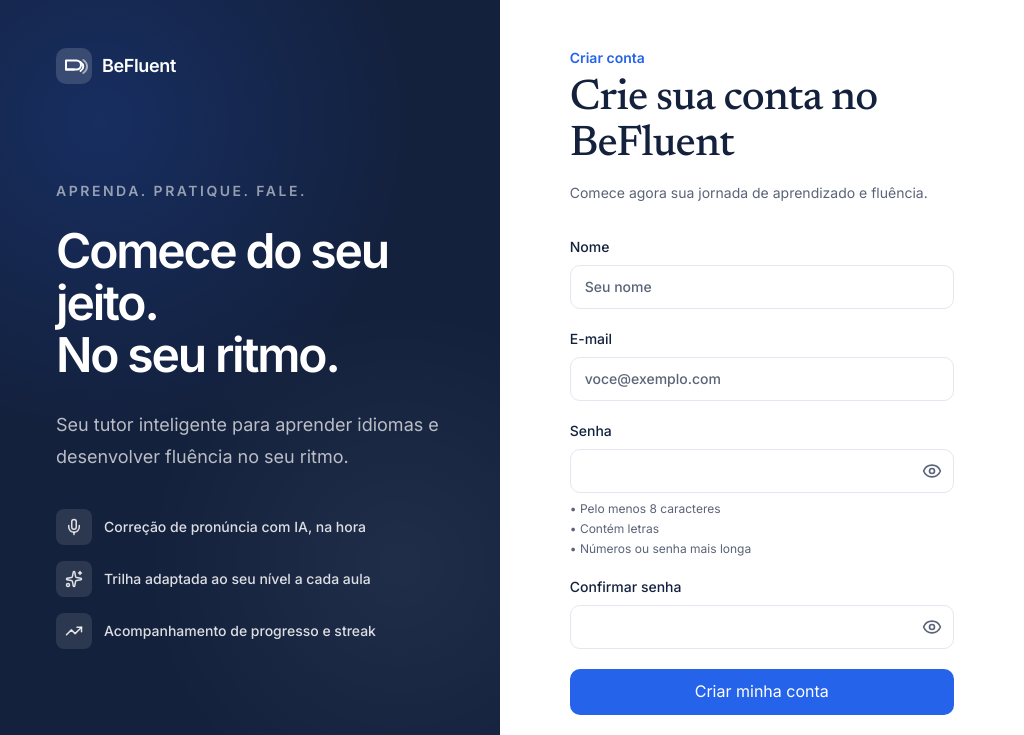
Test: RegisterPage › mostra erro do backend
Type "Maria" into the field labelled "Nome" at (762, 287), box [570,265,954,309]
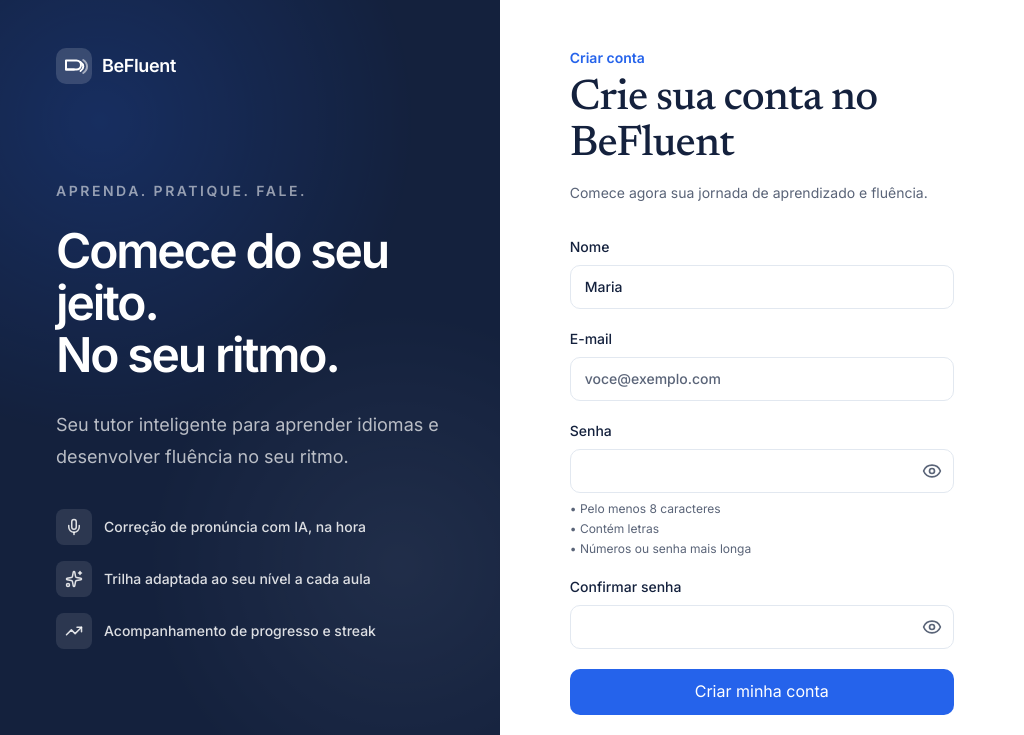
Type "maria@exemplo.com" into the field labelled "E-mail" at (762, 379), box [570,357,954,401]
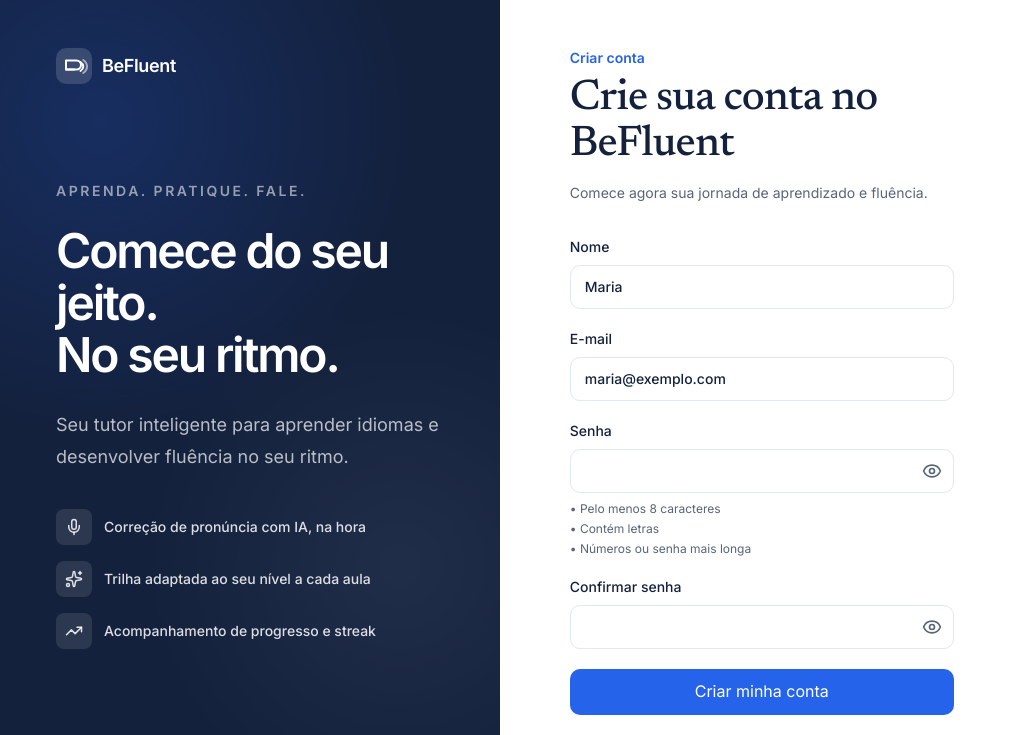
Type "senha-forte-1" into the password field labelled "Senha" at (762, 471), box [570,449,954,493]
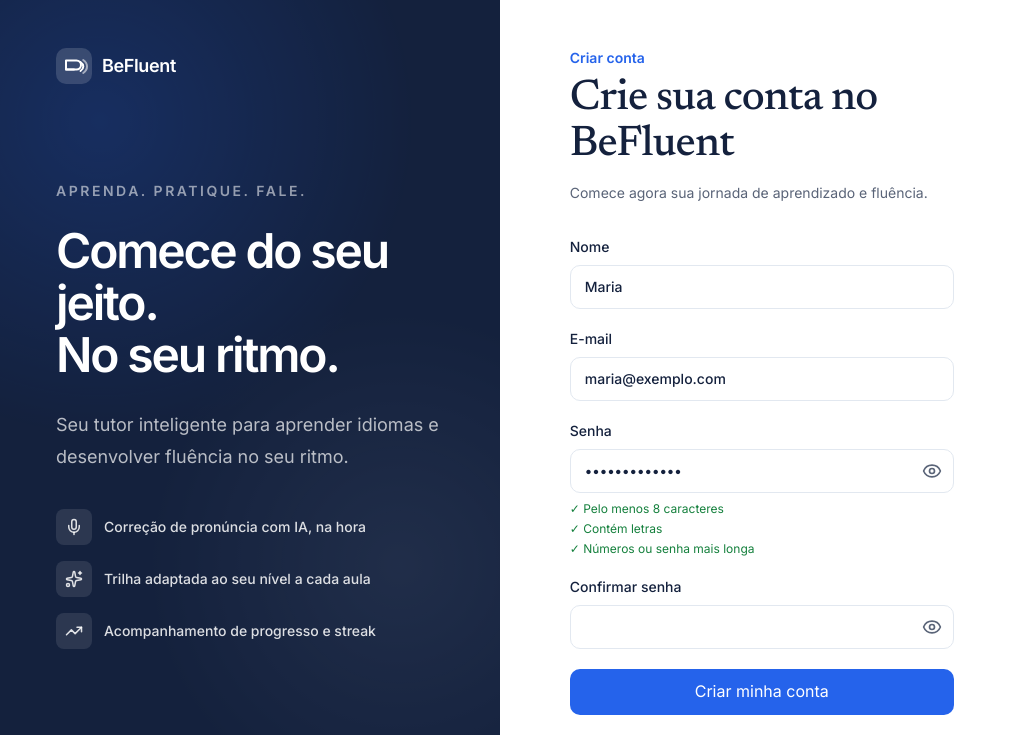
Type "senha-forte-1" into the password field labelled "Confirmar senha" at (762, 627), box [570,605,954,649]
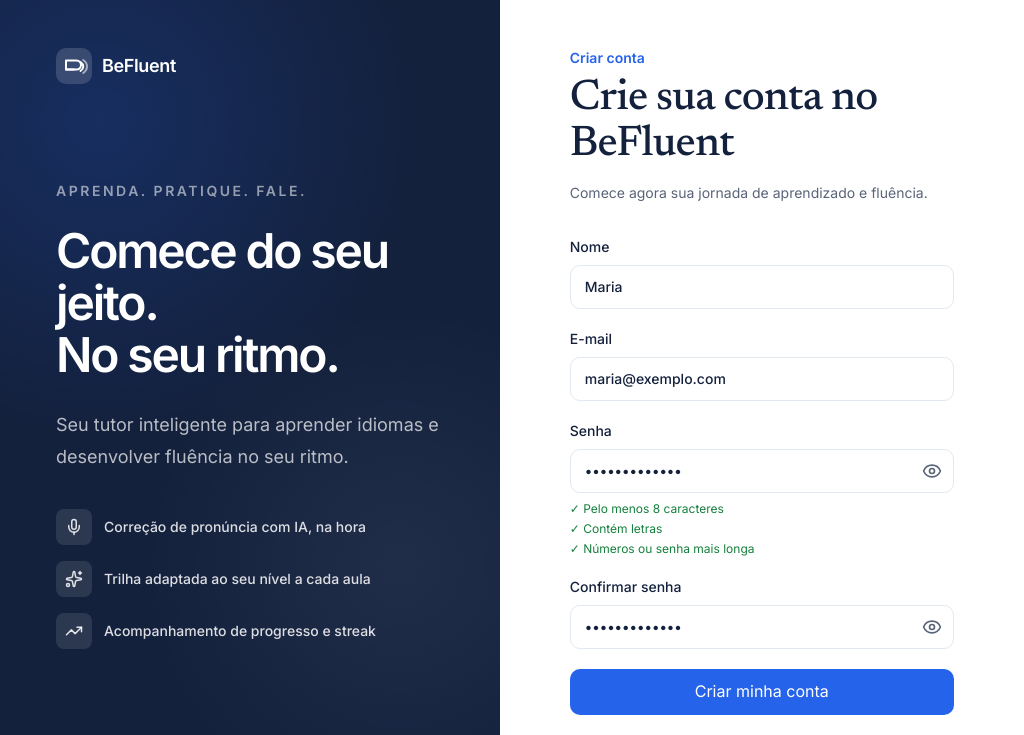
Click the button "Criar minha conta" at (762, 692), box [570,669,954,714]
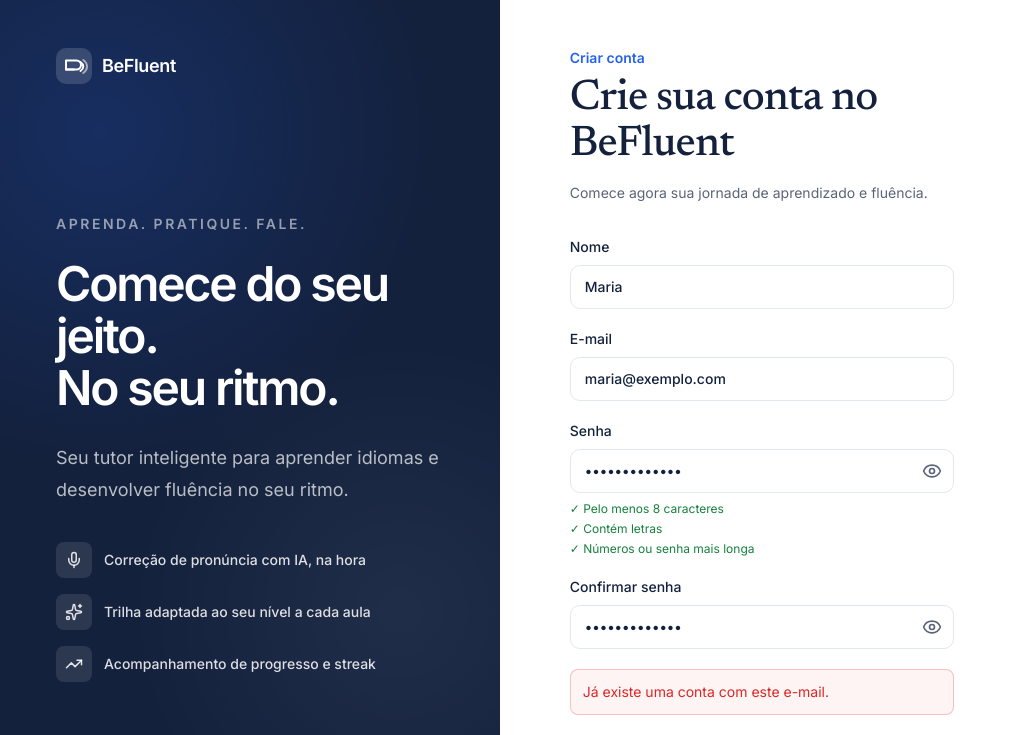
Check: the message reads "Já existe uma conta com este e-mail.", box [583,683,829,700]
